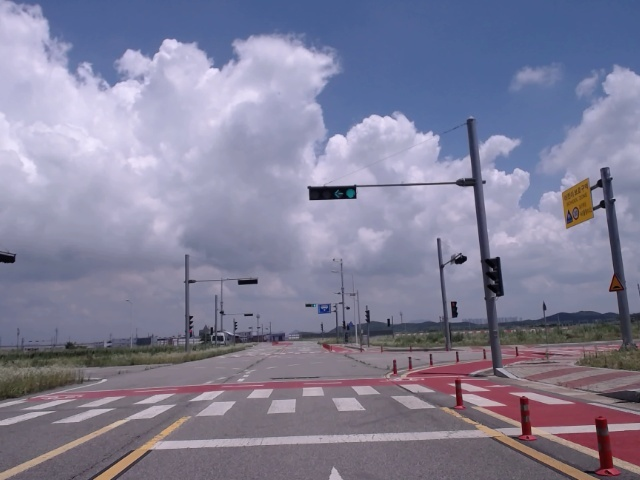all_green_4: (307, 187, 355, 198)
